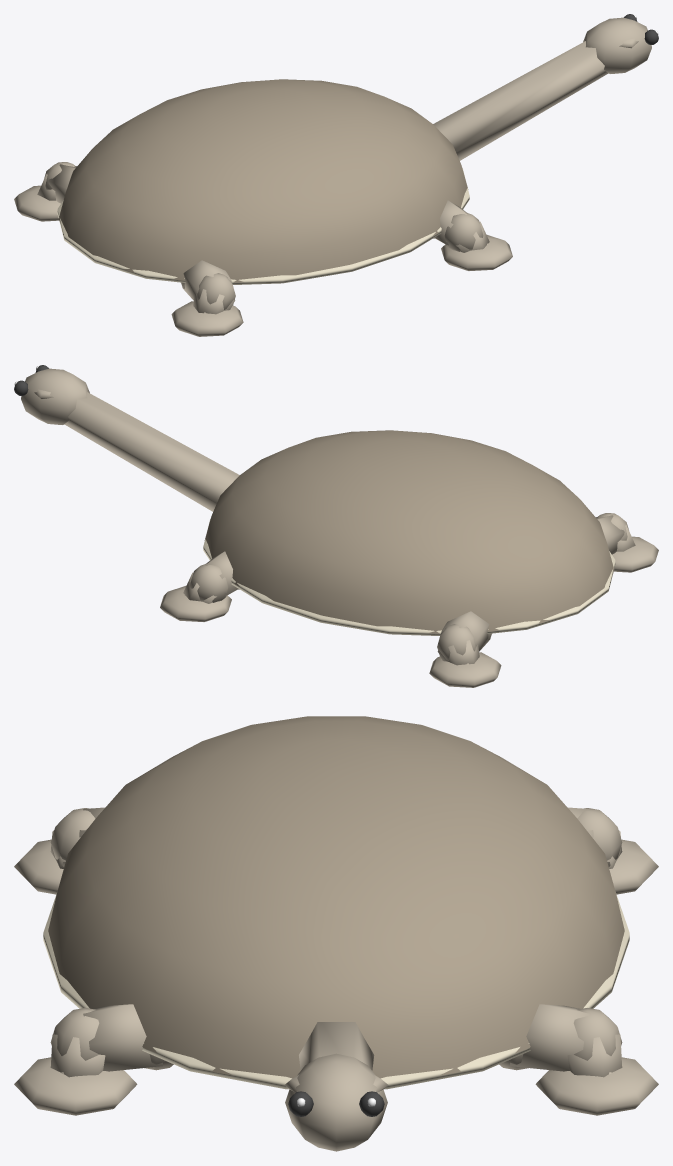
The model's file is roti-island-snake-necked-turtle.glb.
3 renders of one model, top to bottom at view 1: azimuth 30°, elevation 25°; view 2: azimuth 150°, elevation 25°; view 3: azimuth 270°, elevation 25°, orthographic. The views are drawn at different scales.
Visible parts, largest first — view 1: e, e.019, e.009, e.001, e.024; view 2: e, e.024, e.014, e.001, e.019; view 3: e, e.014, e.009, e.001, e.019, e.024.
Part boxes in pixels (box(x1,y1,x2,y2)): e: box(57, 41, 608, 284); e.019: box(171, 260, 243, 336); e.009: box(433, 200, 512, 270); e.001: box(583, 14, 658, 73); e.024: box(14, 162, 76, 221); e: box(64, 392, 615, 635); e.024: box(429, 611, 501, 687); e.014: box(160, 551, 239, 621); e.001: box(14, 365, 89, 424); e.019: box(596, 513, 658, 572); e: box(43, 716, 629, 1089); e.014: box(499, 1004, 658, 1115); e.009: box(14, 1004, 173, 1115); e.001: box(284, 1053, 388, 1151); e.019: box(14, 807, 104, 894); e.024: box(568, 807, 658, 894).
Size of the model in its own units: 0.7631 by 0.1749 by 0.4509.
